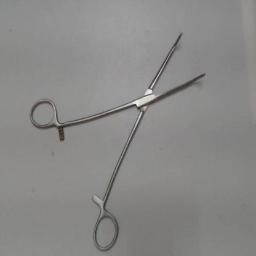Lahey Forceps: (27, 28, 209, 254)
